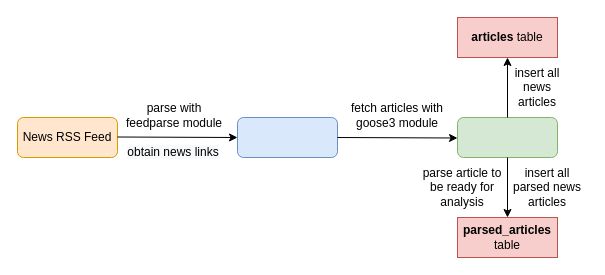
Some shapes in this 605 by 275 pixel diagram are drawn without their labels. Each missing label, with the centre of its shape:
"News Article" belongs at pixel 507 137.
"News Links" belongs at pixel 287 137.
